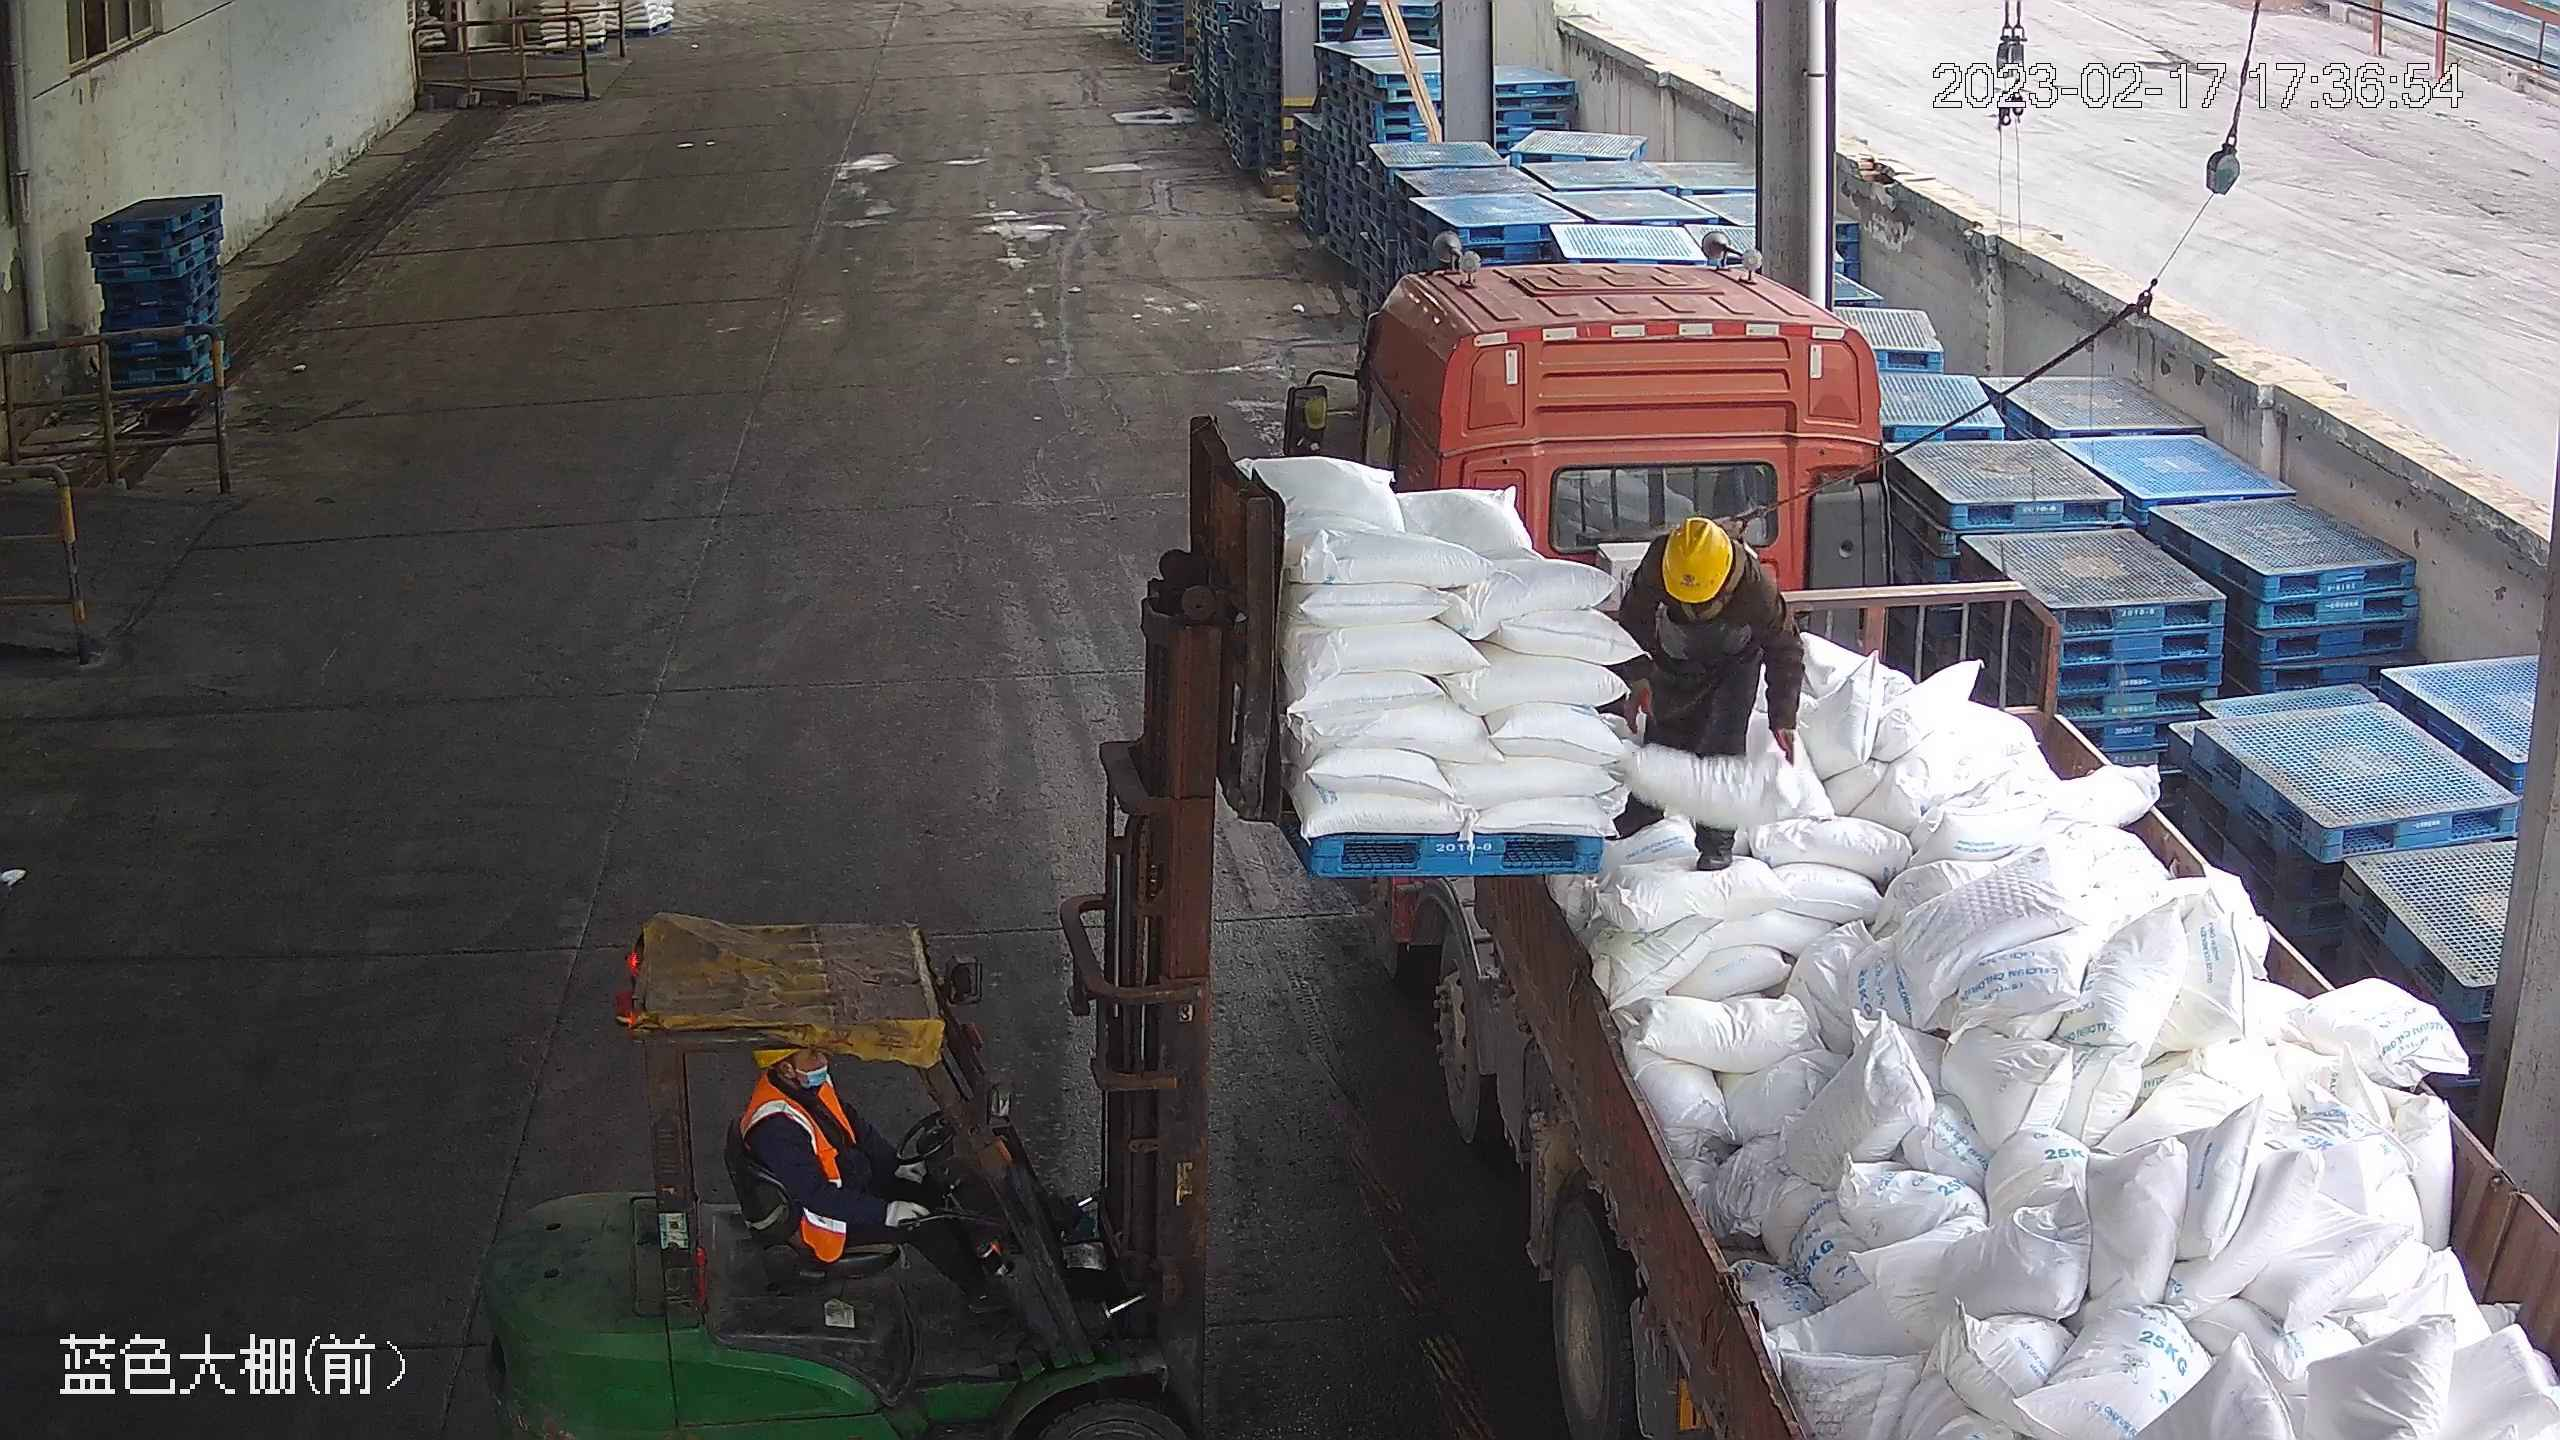belt: (1672, 561, 1736, 633)
head: (1627, 510, 1786, 633), (734, 1038, 868, 1171)
helmet: (1657, 511, 1735, 605)
people: (1602, 509, 1805, 879), (733, 1036, 977, 1338)
truck: (1265, 248, 2552, 1435)
